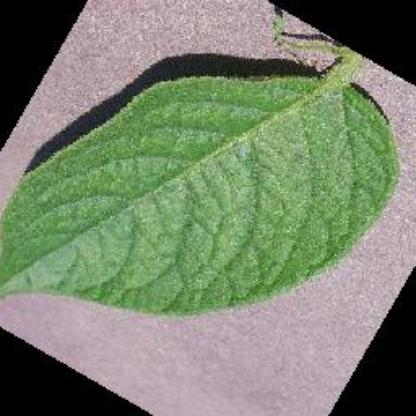Healthy-plant: (2, 35, 414, 342)
